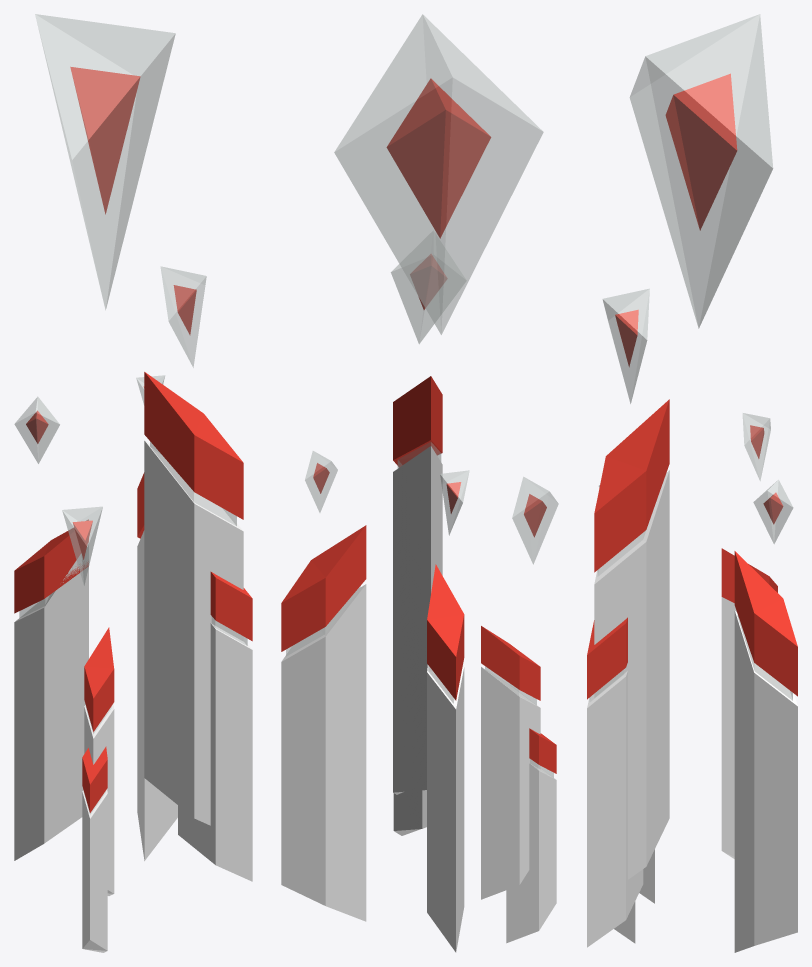
File: Checkpoint.glb
3 renders of one model, left to right at view 1: azimuth 30°, elevation 25°; view 2: azimuth 150°, elevation 25°; view 3: azimuth 270°, elevation 25°, orthographic. The views are drawn at different scales.
Parts seen in each view (by area): view 1: group1690861417, group985046001, group79669443, group1147876547, group1488017071, group819938195, group785487691, group175900553, group2086956734, group1527912674; view 2: group79669443, group785487691, group1690861417, group985046001, group819938195, group1488017071, group175900553, group2086956734, group1147876547, group1851883850, group1527912674; view 3: group79669443, group1690861417, group785487691, group1147876547, group985046001, group175900553, group1851883850, group1527912674, group819938195.
Boxes of the visible parts, x1,y1,x2,y2 form: group1690861417: (144,372,243,825); group985046001: (14,519,88,860); group79669443: (35,14,175,309); group1147876547: (178,571,252,881); group1488017071: (82,746,107,952); group819938195: (84,627,114,895); group785487691: (137,472,177,860); group175900553: (160,266,206,367); group2086956734: (62,506,102,585); group1527912674: (14,396,59,463); group79669443: (334,14,543,334); group785487691: (281,525,366,921); group1690861417: (393,376,442,794); group985046001: (427,564,464,952); group819938195: (481,626,540,899); group1488017071: (506,728,556,943); group175900553: (391,231,466,343); group2086956734: (512,477,558,564); group1147876547: (393,790,426,835); group1851883850: (305,451,337,512); group1527912674: (440,470,469,535); group79669443: (629,14,773,328); group1690861417: (594,399,669,879); group785487691: (734,551,797,952); group1147876547: (587,617,643,947); group985046001: (721,548,777,858); group175900553: (602,288,649,403); group1851883850: (753,480,793,543); group1527912674: (742,413,770,480); group819938195: (639,849,654,903).
Size of the model in its own units: 0.3369 by 1.57 by 0.3235.
